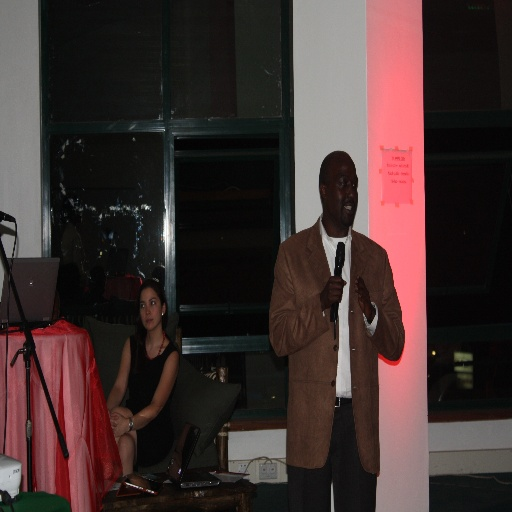hand: (320, 276, 346, 309), (354, 277, 372, 318), (111, 408, 130, 437), (107, 411, 118, 435)
